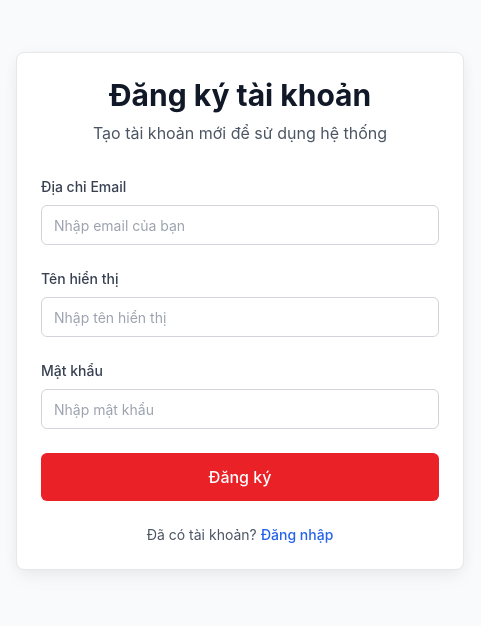
it: shows all validation errors at once (all fields invalid)
The width and height of the screenshot is (481, 626).
What coordinates should you click on to do the following:
click the button "Đăng ký"
I would click on:
 (240, 477)
Its box is [41, 453, 439, 501].
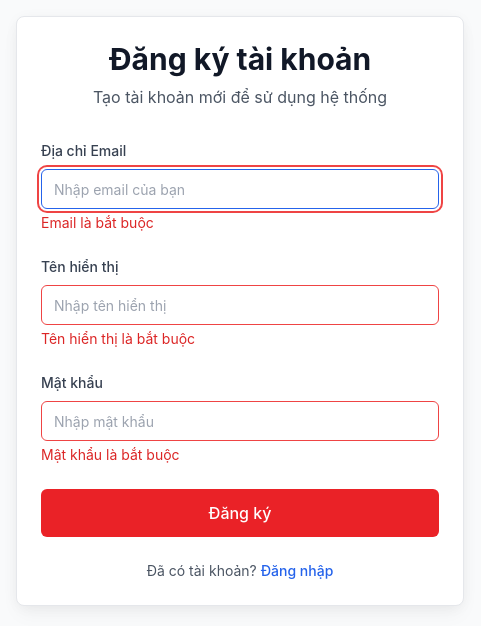
Result: the text with test id "email-error" reads "Email là bắt buộc" at [41, 214, 154, 231]
Result: the text with test id "displayName-error" reads "Tên hiển thị là bắt buộc" at [41, 330, 195, 347]
Result: the text with test id "password-error" reads "Mật khẩu là bắt buộc" at [41, 446, 180, 463]
